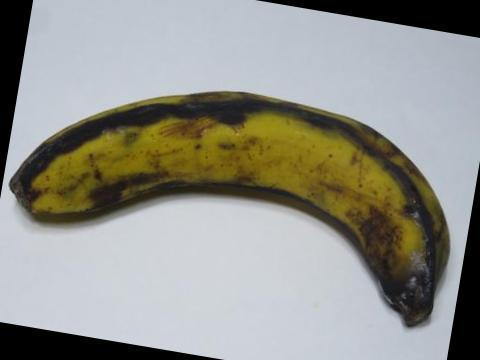overripe: (8, 83, 458, 320)
rotten: (359, 219, 449, 333)
